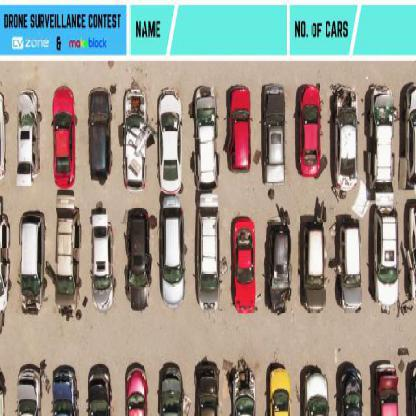car: (90, 205, 118, 316), (128, 208, 156, 315), (156, 89, 184, 194), (53, 195, 77, 317), (260, 83, 288, 185), (295, 82, 324, 179), (332, 88, 359, 192), (368, 86, 394, 193), (50, 87, 77, 188), (193, 84, 217, 189), (197, 207, 220, 316), (19, 212, 44, 312), (161, 211, 186, 309), (265, 219, 291, 313), (88, 90, 114, 183), (225, 83, 252, 172), (123, 88, 146, 192), (15, 90, 40, 182), (233, 222, 257, 309), (376, 209, 397, 308), (303, 228, 326, 314), (340, 225, 361, 309), (371, 361, 401, 415), (194, 362, 224, 415), (14, 364, 45, 415), (334, 364, 365, 415), (229, 361, 258, 415), (264, 363, 294, 415), (157, 363, 186, 415), (50, 367, 81, 415), (300, 367, 330, 415), (85, 365, 113, 415), (402, 84, 415, 190), (124, 365, 151, 415), (404, 356, 416, 415)
